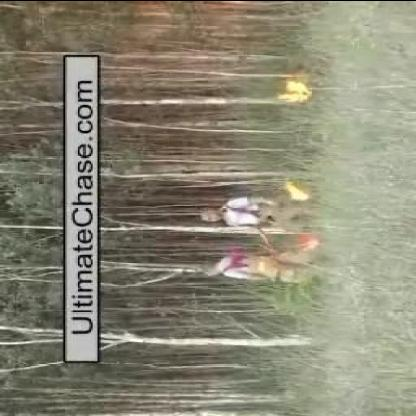foggia-v2-map80-epoch100 - v1 4323: (278, 80, 312, 100), (285, 184, 311, 200)
